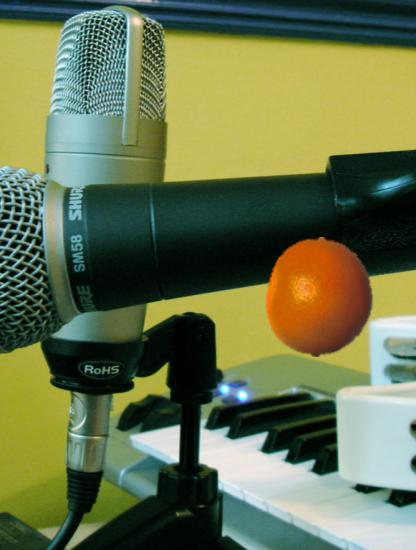Grapefruit: (260, 237, 381, 358)
